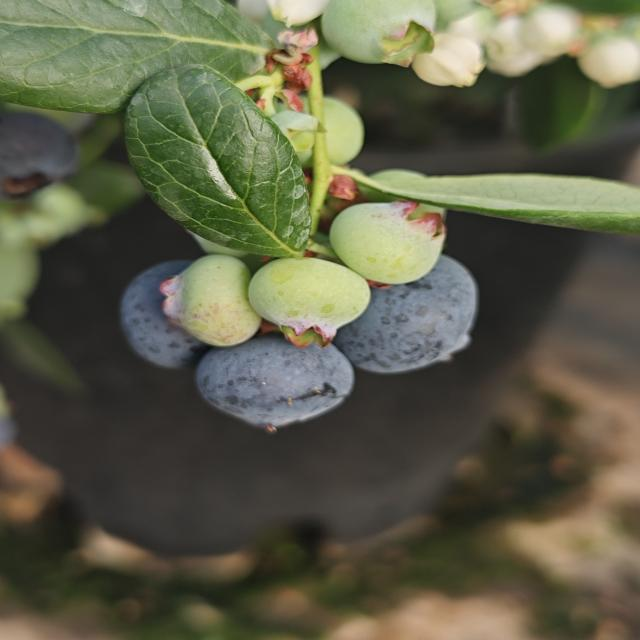ripe: (334, 252, 481, 376), (192, 332, 358, 434), (116, 258, 206, 371), (1, 104, 82, 200)
